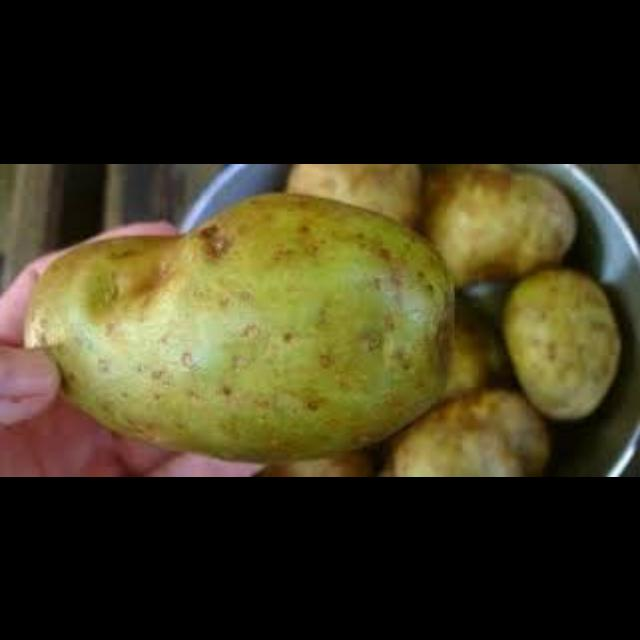Defected potato: (18, 177, 458, 476), (494, 262, 624, 426), (428, 163, 576, 284), (367, 384, 548, 476), (282, 163, 431, 227)
